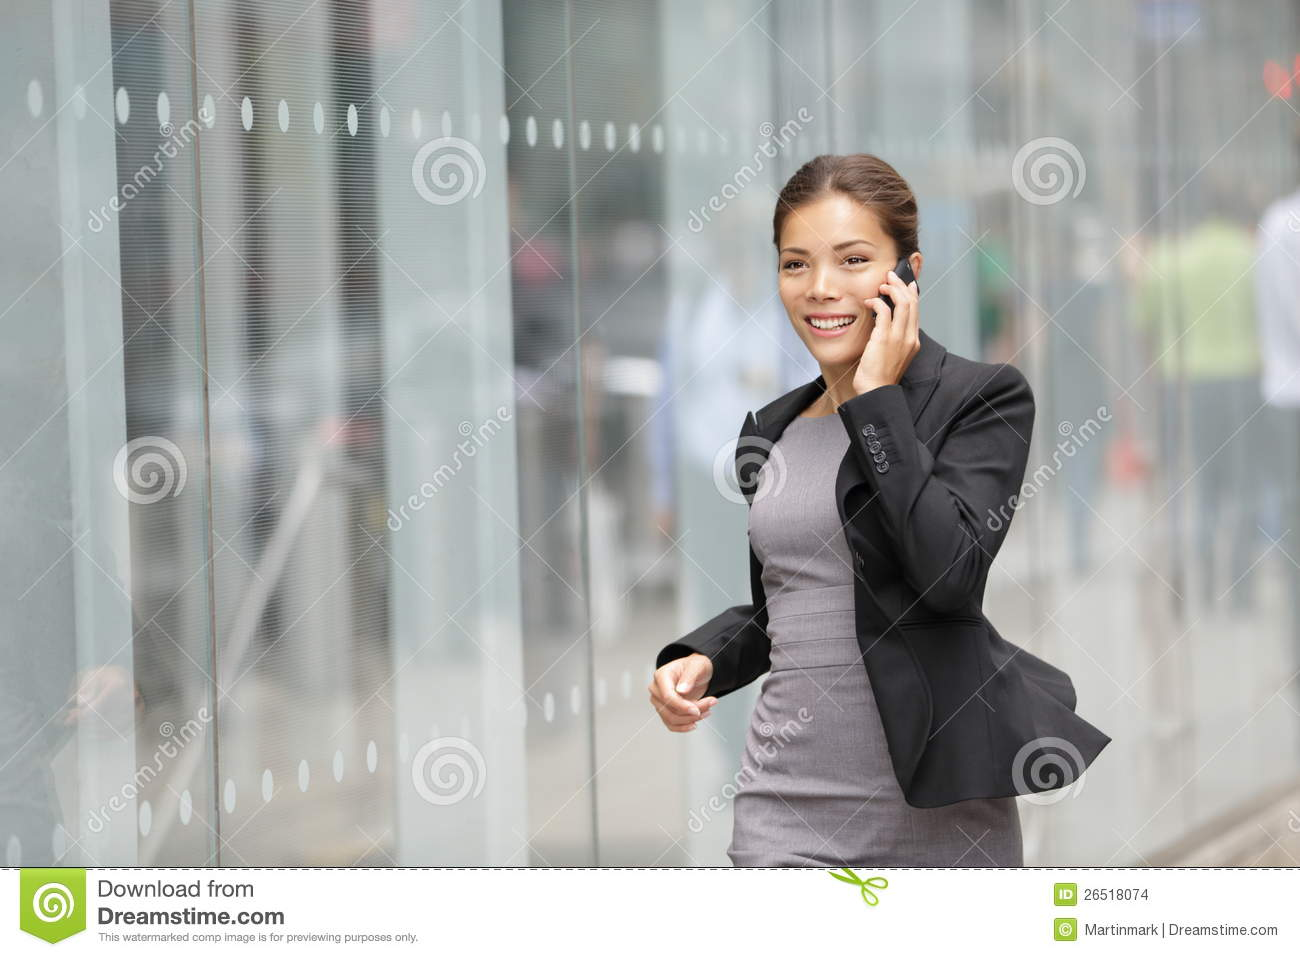phone: (877, 260, 917, 327)
talk: (776, 236, 922, 395)
